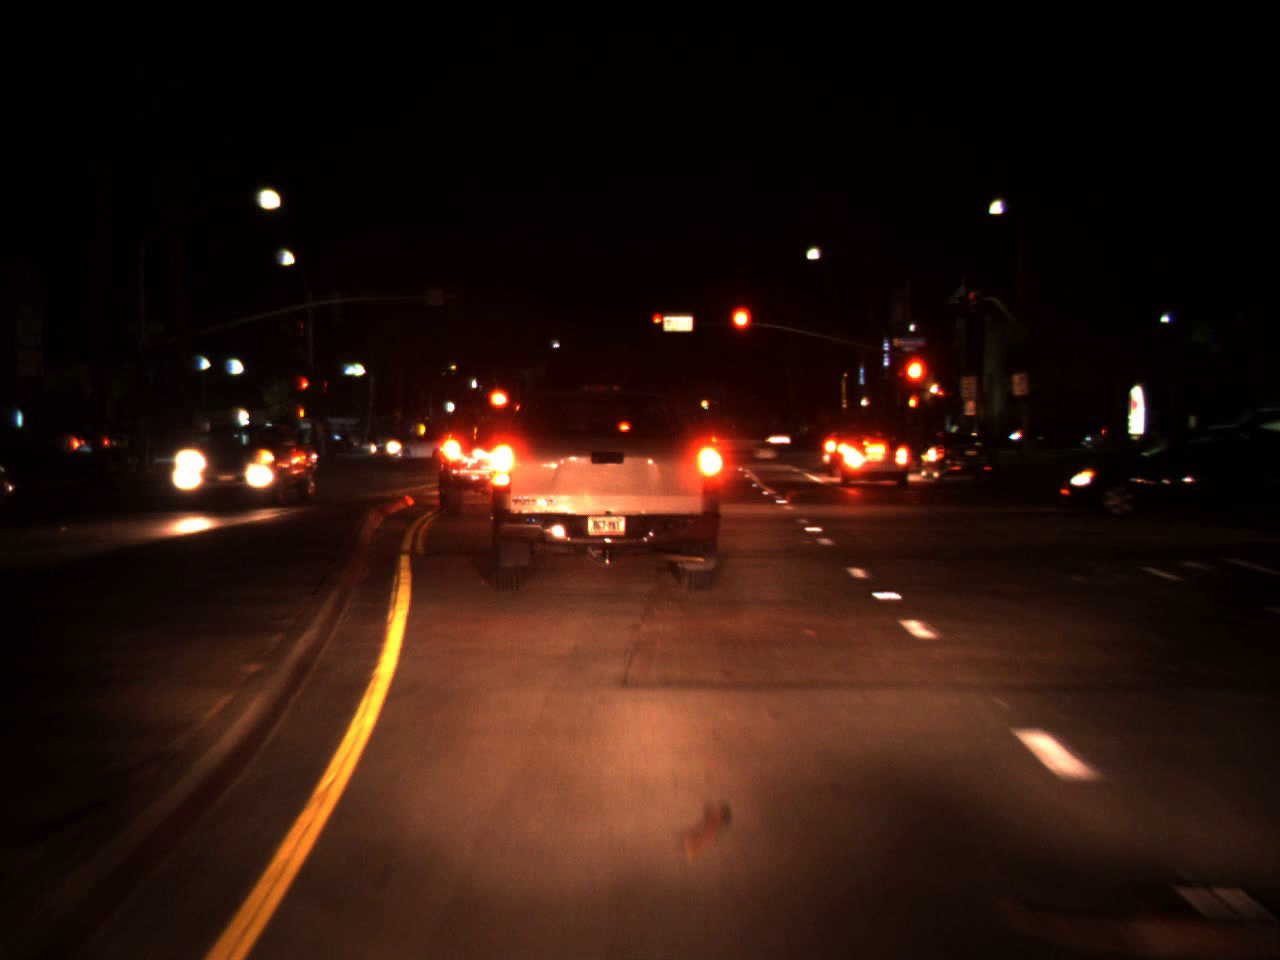stop: (901, 352, 931, 416), (728, 303, 753, 357), (652, 312, 664, 333), (300, 376, 309, 400)
